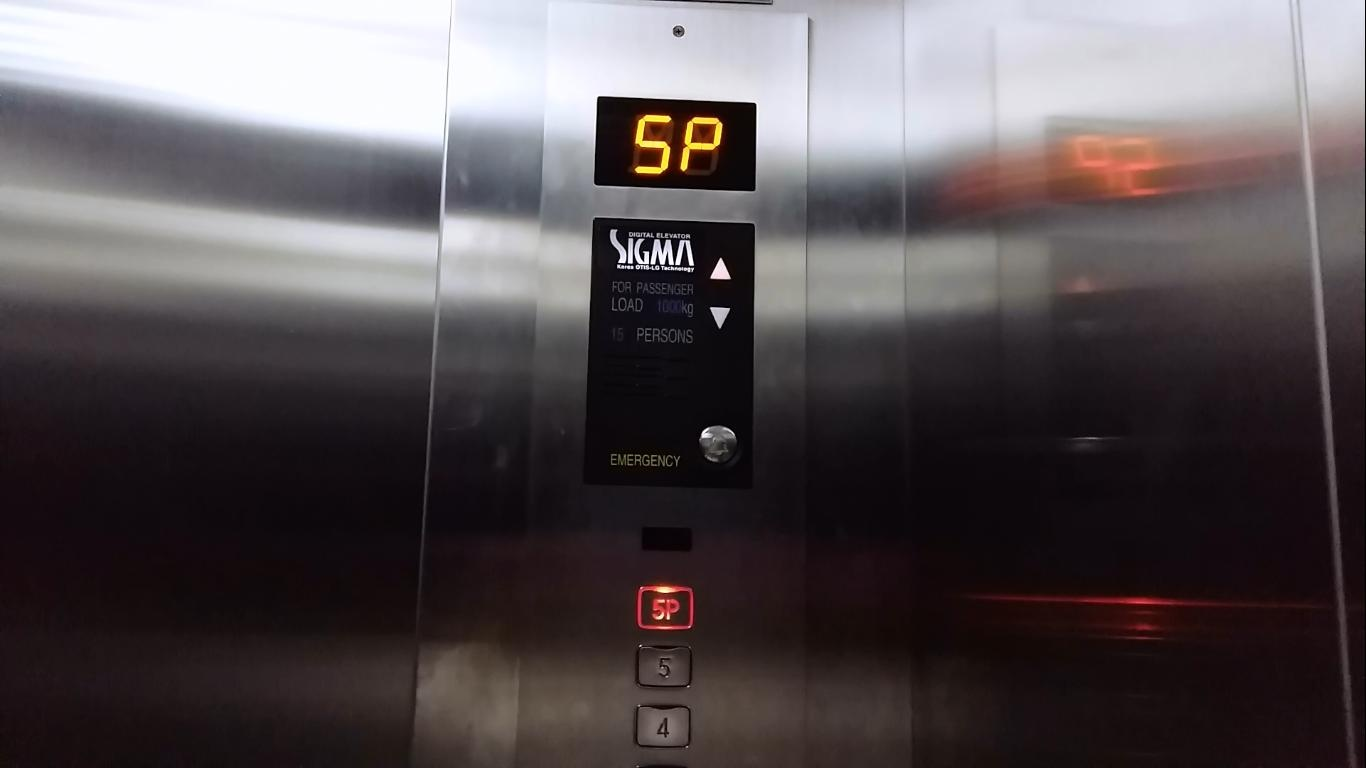4: (634, 699, 693, 750)
5: (632, 640, 694, 694)
5P: (634, 583, 695, 630)
alarm: (687, 418, 748, 465)
led: (591, 94, 758, 192)
